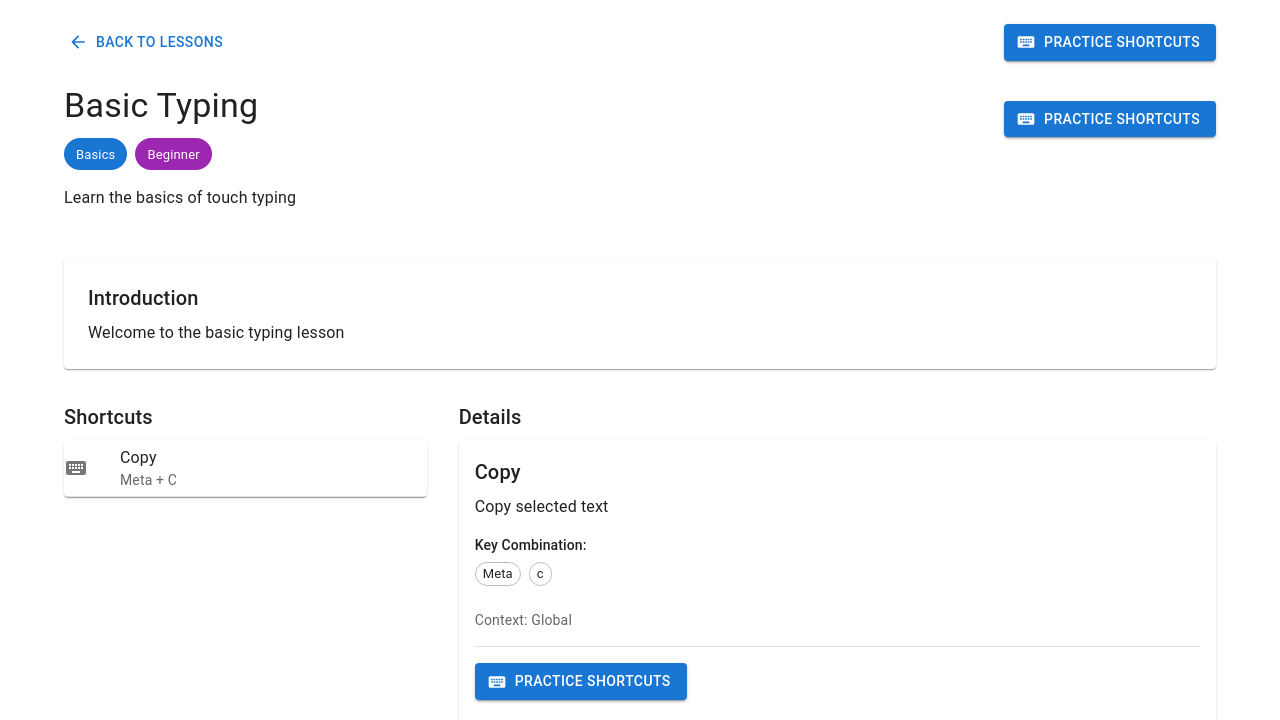
Scenario: LessonDetail Component › should start practice mode when clicking practice button
Click the button with test id "start-practice-button" at (1110, 42), box x1=1004 y1=24 x2=1216 y2=60
(page scrolled)
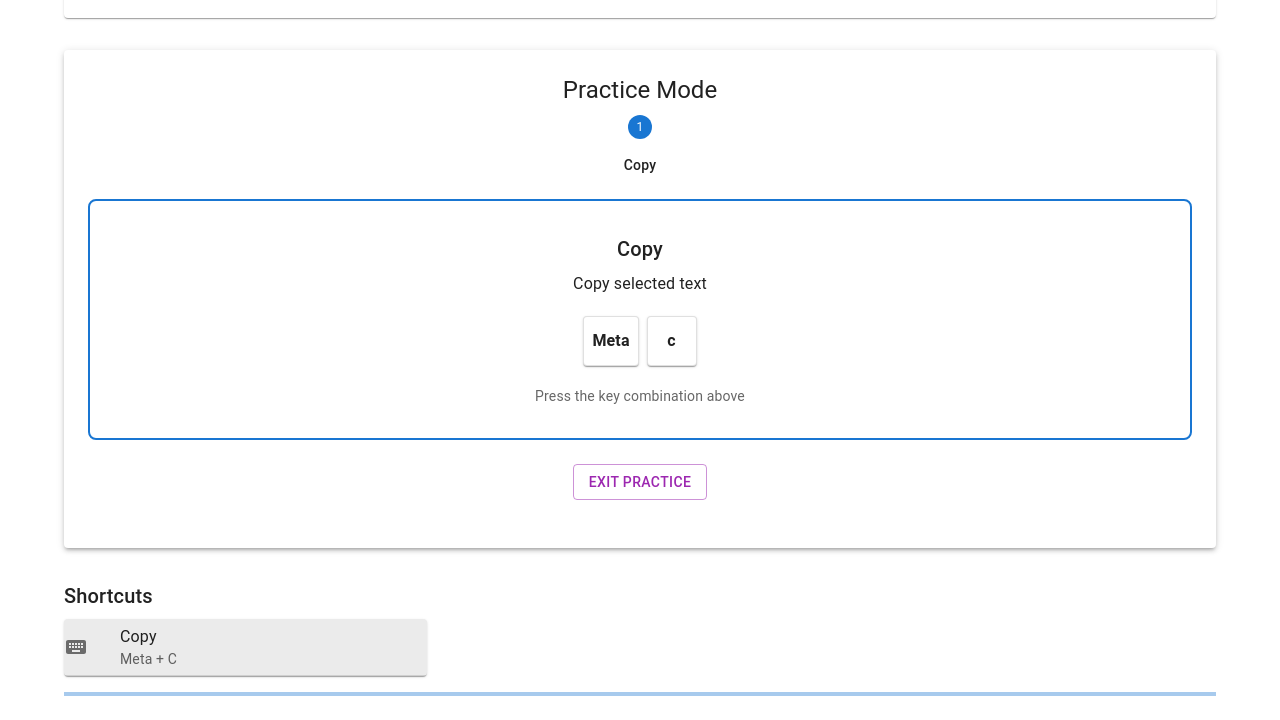
Expected: the progress indicator with test id "progress-indicator" is shown, x1=64 y1=692 x2=1216 y2=696
